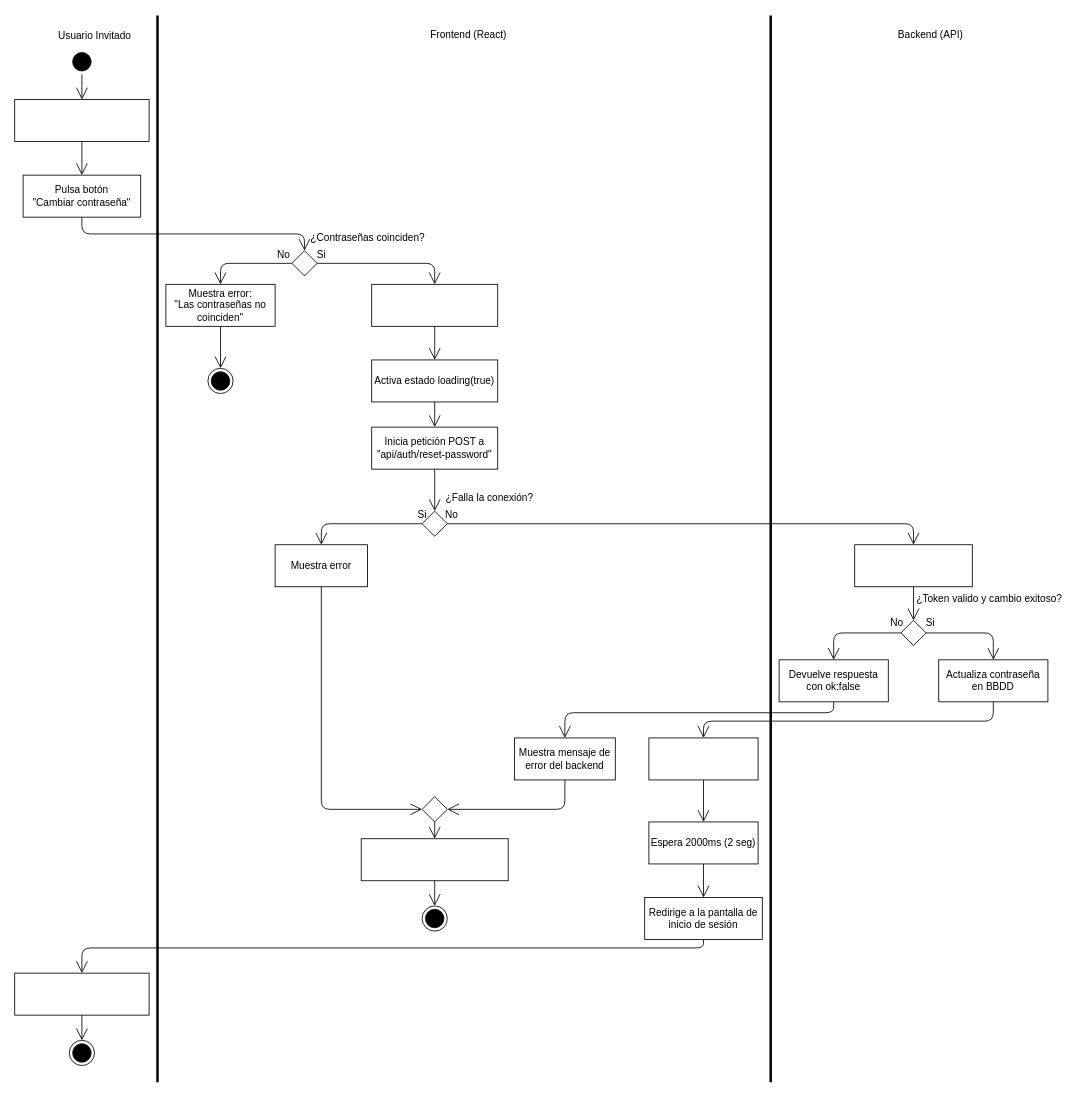
Some shapes in this 1088 by 1099 pixel diagram are drawn without their labels. The shapes that lost their labels are listed below. From the top down, each one's box as (x1, y1, x2, y2) in pixels, then its label:
(14, 99, 149, 142): Rellena Nueva Contraseña y confirmación
(371, 284, 498, 326): Limpia errores previos
(854, 544, 972, 587): Valida token recibido
(648, 737, 758, 780): Muestra mensaje de exito
(360, 838, 508, 881): Desactiva estado loading(false)
(14, 972, 149, 1015): Redirije a la pantalla de inicio de sesión
